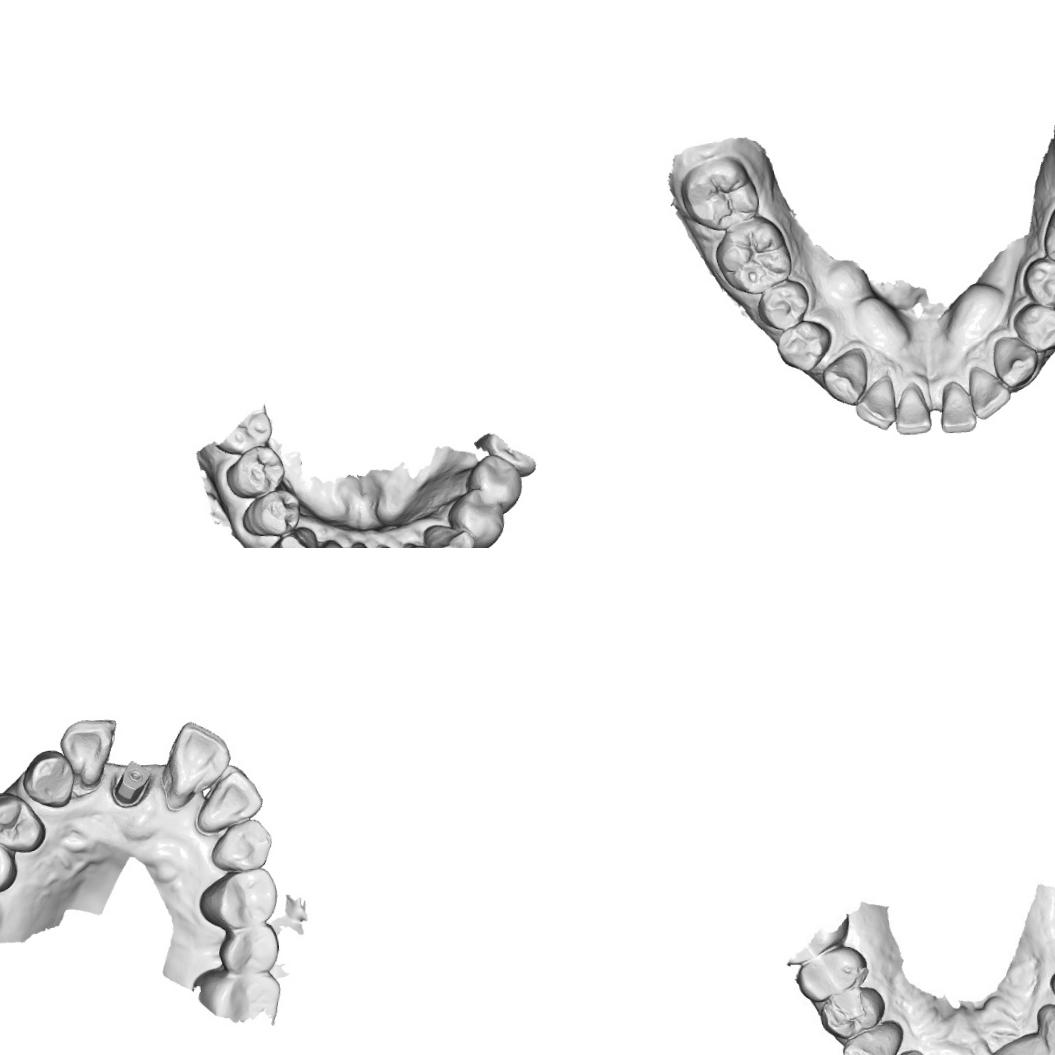canine: (206, 816, 274, 873), (19, 746, 76, 810), (819, 347, 870, 408), (989, 331, 1040, 390), (841, 1020, 906, 1055), (421, 518, 476, 548), (263, 523, 320, 548)
implant: (110, 750, 152, 816)
incisor: (153, 717, 236, 812), (190, 762, 266, 837), (56, 716, 122, 796), (964, 362, 1014, 421), (853, 374, 900, 436), (936, 378, 977, 434), (891, 382, 932, 436), (312, 536, 353, 548), (401, 538, 448, 548)
molar: (710, 213, 796, 298), (677, 154, 762, 235), (1038, 193, 1055, 274)
premolar: (194, 864, 280, 932), (794, 940, 868, 1004), (462, 452, 525, 516), (222, 442, 288, 500), (444, 488, 506, 548), (215, 922, 281, 976), (818, 986, 886, 1038), (771, 317, 834, 373), (753, 278, 816, 331), (0, 787, 47, 856), (239, 487, 302, 538), (1010, 300, 1055, 355), (1019, 253, 1055, 310), (0, 824, 19, 895)
